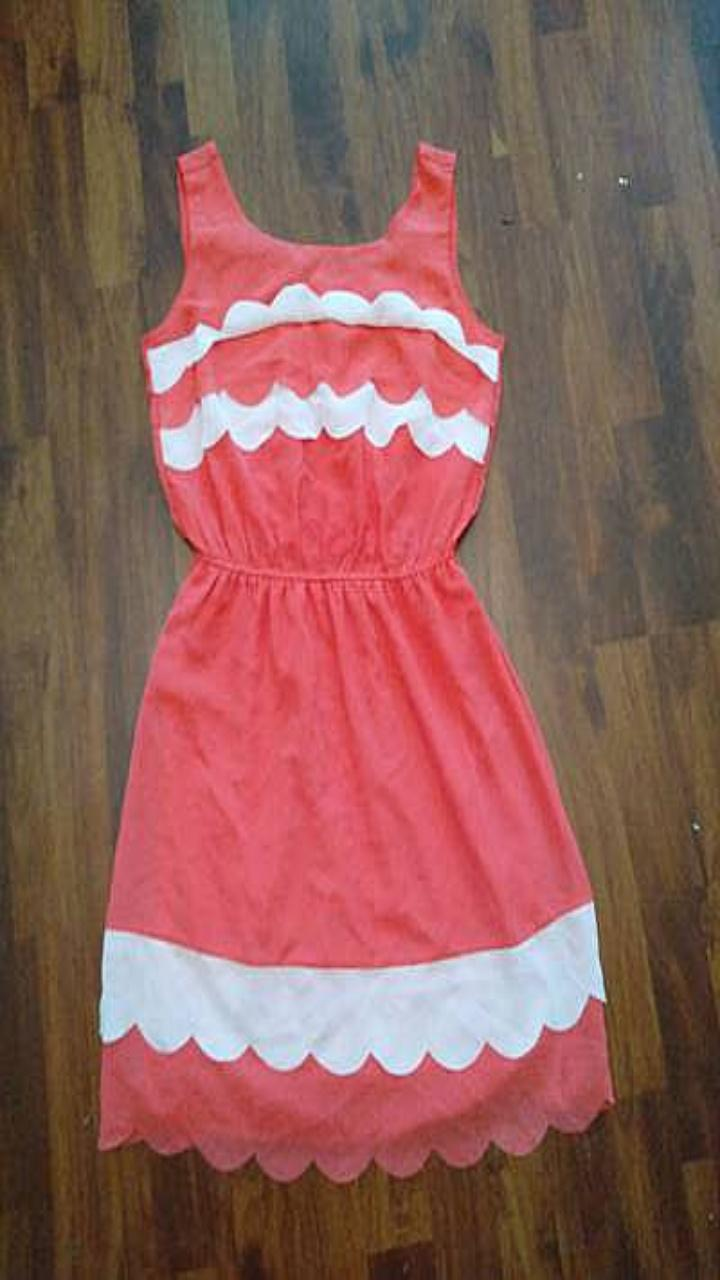Dresses: (100, 142, 611, 1178)
